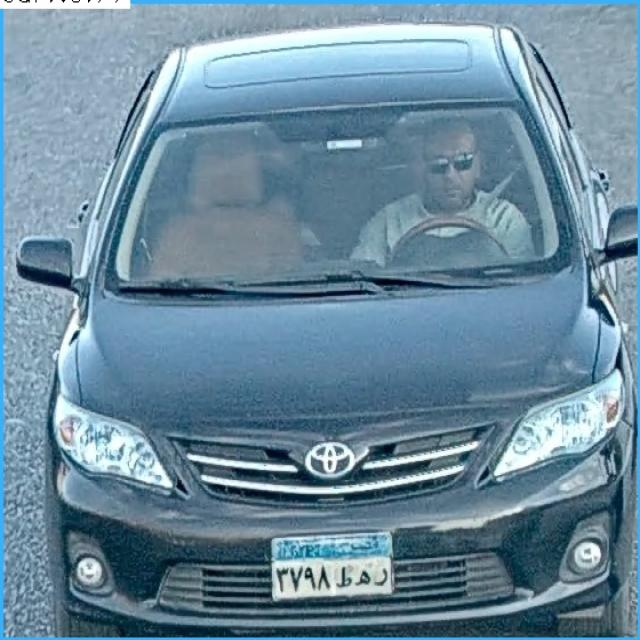windshield: (101, 104, 569, 284)
